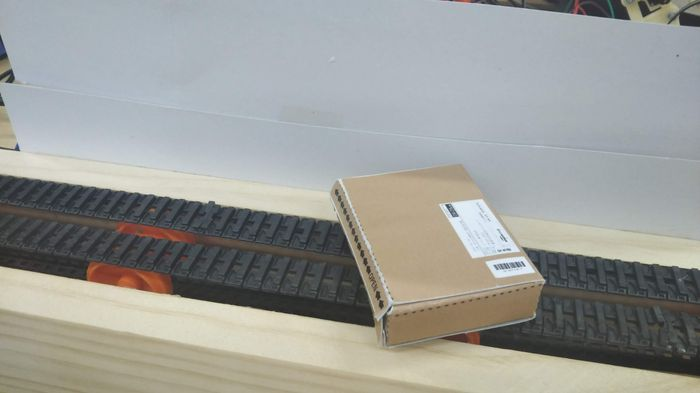box2: (324, 159, 546, 346)
